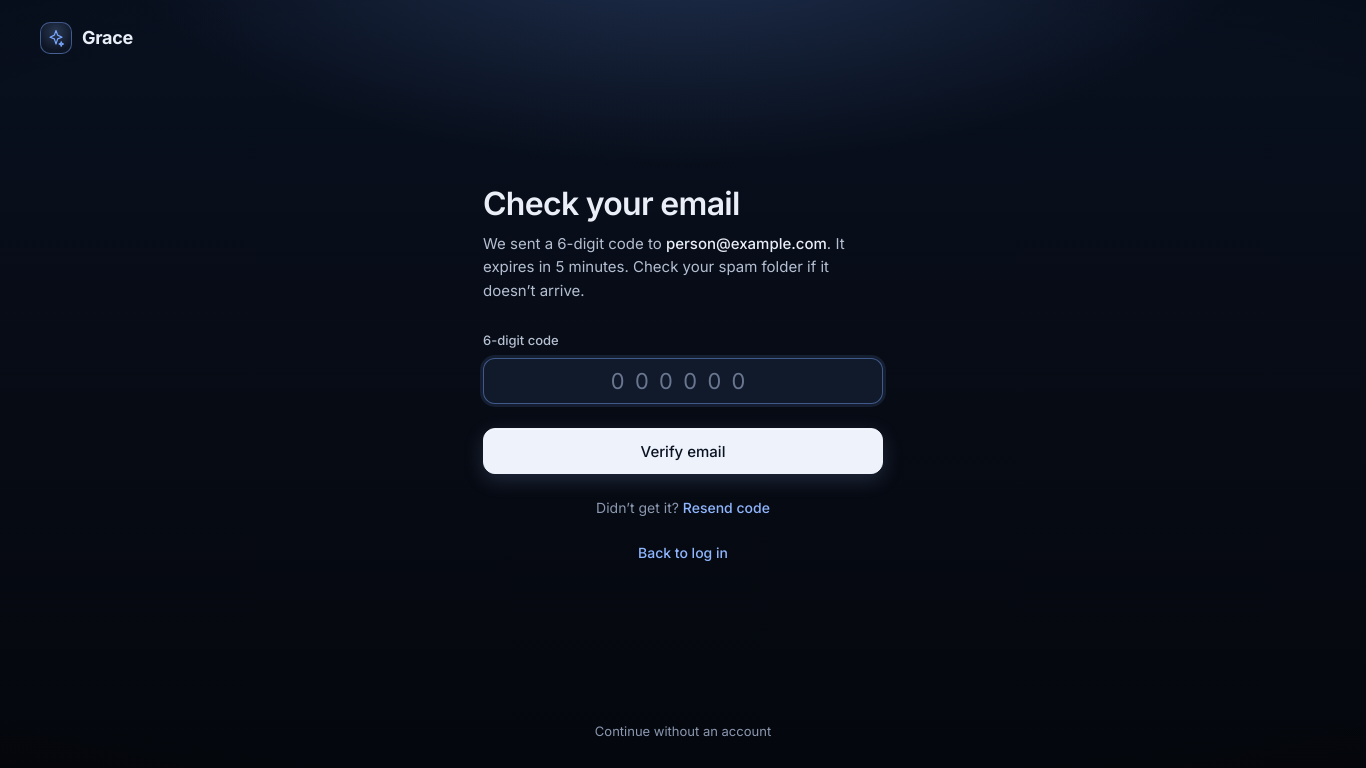
it: AuthForm › shows the server’s specific reason when a code is rejected
Expected: the text "It expires in 5 minutes." is shown, [483,234,845,276]
Type "654321" into the field labelled "6-digit code" at (683, 381), box [483,358,883,404]
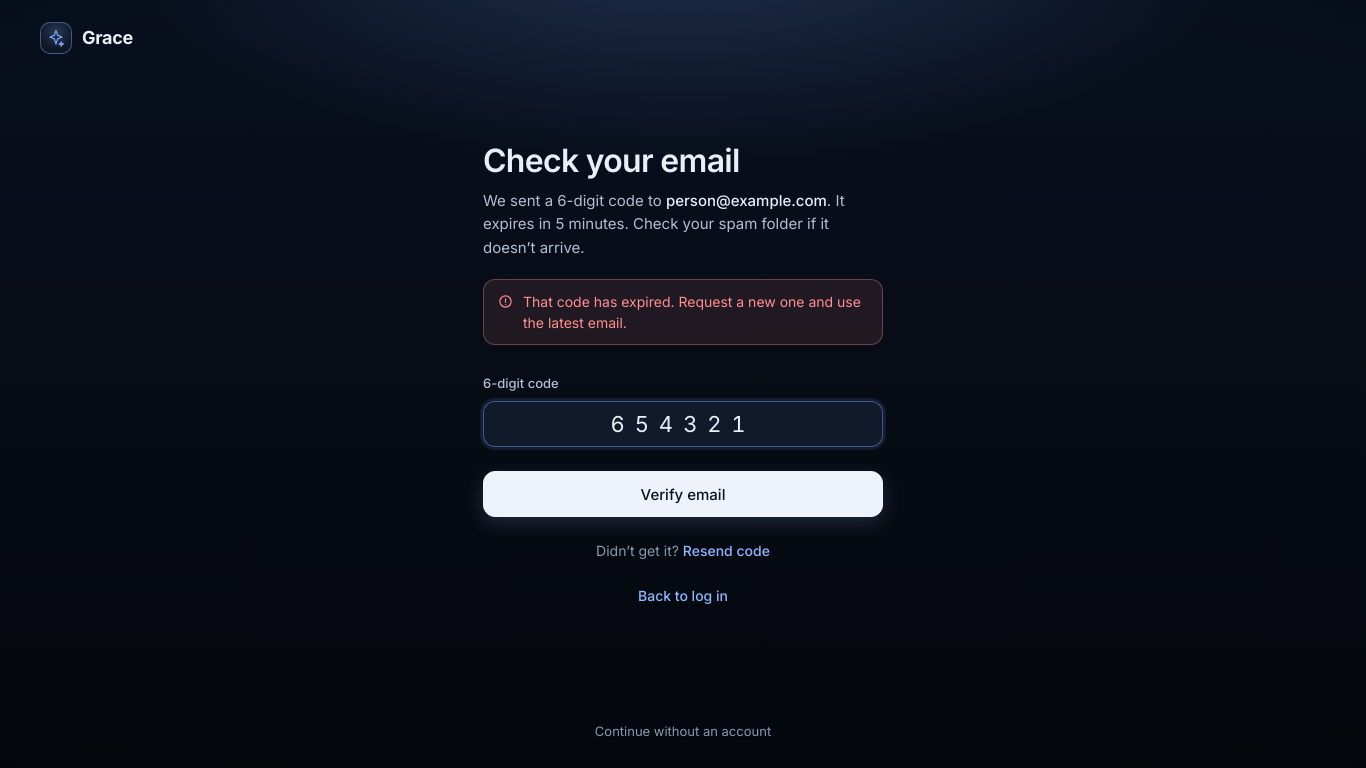
Now the message reads "That code has expired. Request a new one and use the latest email.", box [523,293,861,331]
